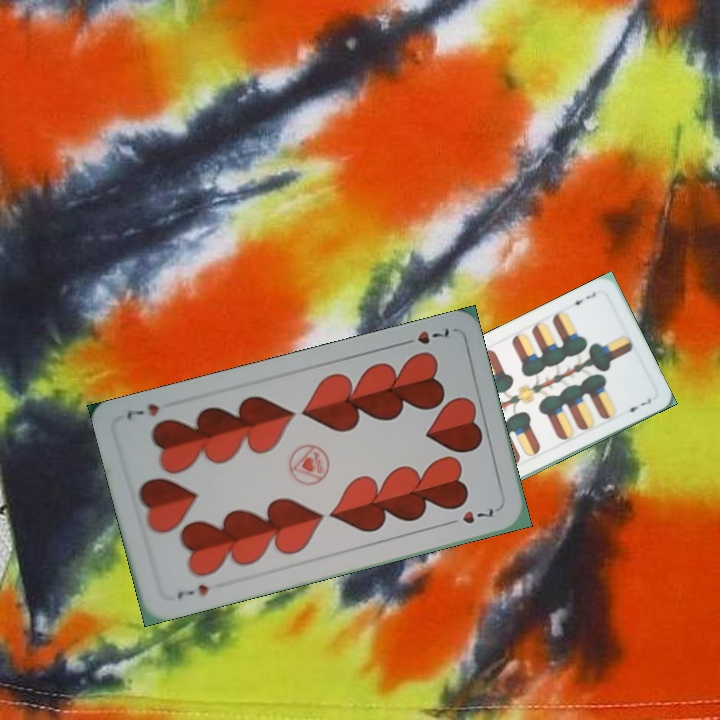E7: (565, 288, 598, 308)
H7: (396, 323, 452, 349), (173, 580, 211, 602)
